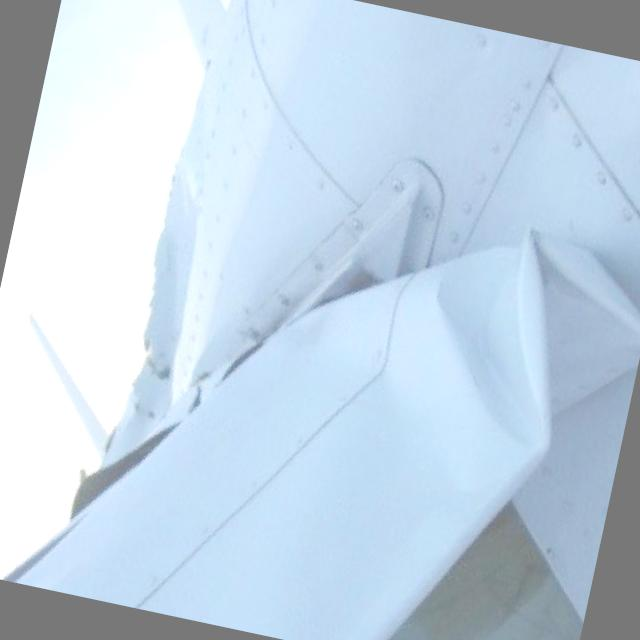dent: (404, 209, 640, 469)
